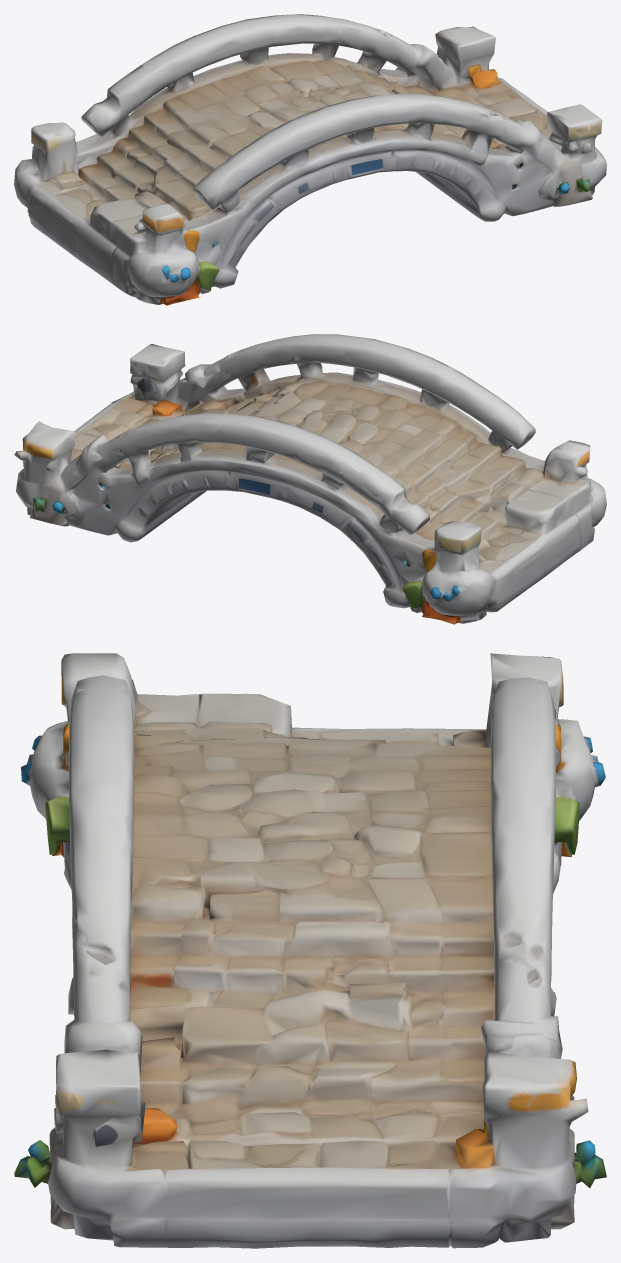
File: stone-bridge.glb
3 renders of one model, top to bottom at view 1: azimuth 30°, elevation 25°; view 2: azimuth 150°, elevation 25°; view 3: azimuth 270°, elevation 25°, orthographic. The views are drawn at different scales.
Visible parts, largest first — view 1: tripo_node_3447e92d-3a40-4198-bd94-13b732721fbc; view 2: tripo_node_3447e92d-3a40-4198-bd94-13b732721fbc; view 3: tripo_node_3447e92d-3a40-4198-bd94-13b732721fbc.
Boxes of the visible parts, x1,y1,x2,y2 form: tripo_node_3447e92d-3a40-4198-bd94-13b732721fbc: (14, 14, 606, 305); tripo_node_3447e92d-3a40-4198-bd94-13b732721fbc: (14, 334, 606, 624); tripo_node_3447e92d-3a40-4198-bd94-13b732721fbc: (14, 653, 606, 1248).
Size of the model in its own units: 1 by 0.2973 by 0.5542.
Materials: 1 (1 with a texture image).
